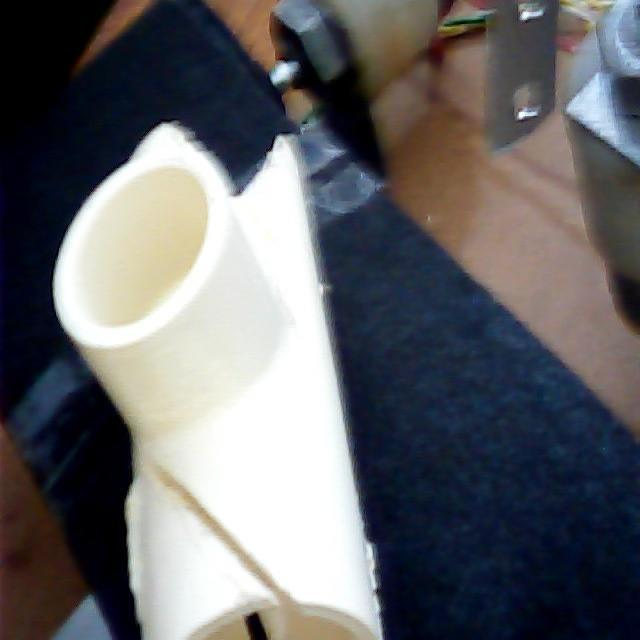Defective: (148, 466, 283, 601), (180, 130, 274, 196), (274, 568, 357, 608), (244, 613, 272, 640)
